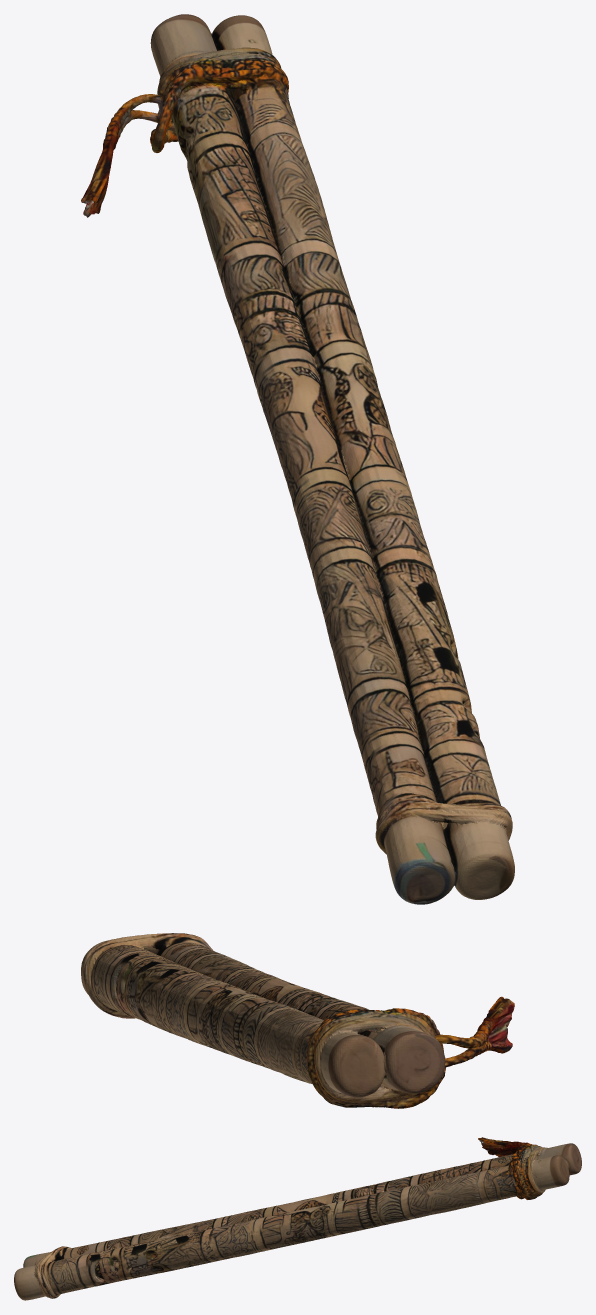
Rendered from koubidi.glb.
3 renders of one model, top to bottom at view 1: azimuth 30°, elevation 25°; view 2: azimuth 210°, elevation 25°; view 3: azimuth 270°, elevation 25°, orthographic. The views are drawn at different scales.
Parts seen in each view (by area): view 1: tripo_node_8f4ea89c-9eaa-4cc7-a30b-72af7cddc487; view 2: tripo_node_8f4ea89c-9eaa-4cc7-a30b-72af7cddc487; view 3: tripo_node_8f4ea89c-9eaa-4cc7-a30b-72af7cddc487.
Boxes of the visible parts, x1,y1,x2,y2 form: tripo_node_8f4ea89c-9eaa-4cc7-a30b-72af7cddc487: (81,14,514,904); tripo_node_8f4ea89c-9eaa-4cc7-a30b-72af7cddc487: (81,933,514,1108); tripo_node_8f4ea89c-9eaa-4cc7-a30b-72af7cddc487: (14,1137,581,1300).
Bounding box in the file's own units: 41.1 × 43.12 × 104.
Materials: 1 (1 with a texture image).
